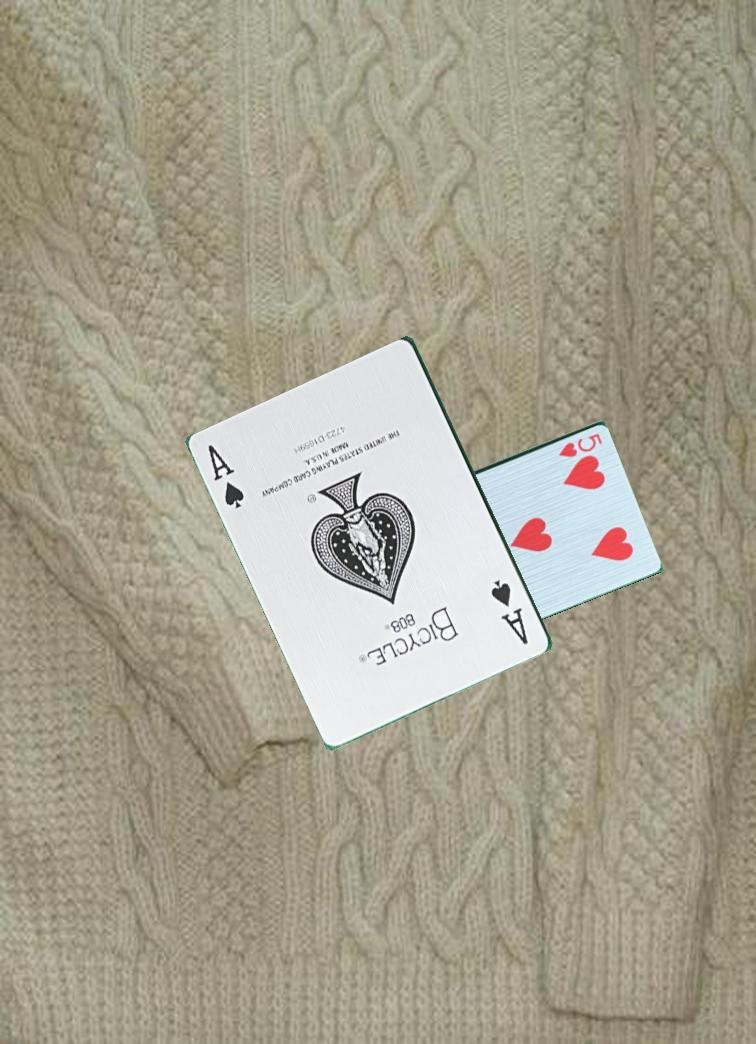5h: (555, 429, 605, 460)
as: (488, 576, 532, 648), (205, 441, 248, 514)
